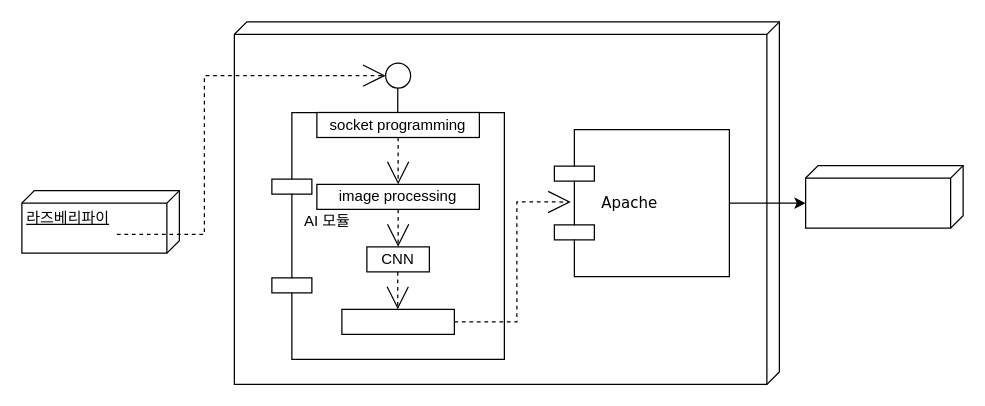
Some shapes in this 985 by 406 pixel diagram are drawn without their labels. Each missing label, with the box of its shape:
서버: (233, 21, 779, 384)
영상 처리: (341, 308, 454, 334)
웹클라이언트: (804, 164, 963, 228)
